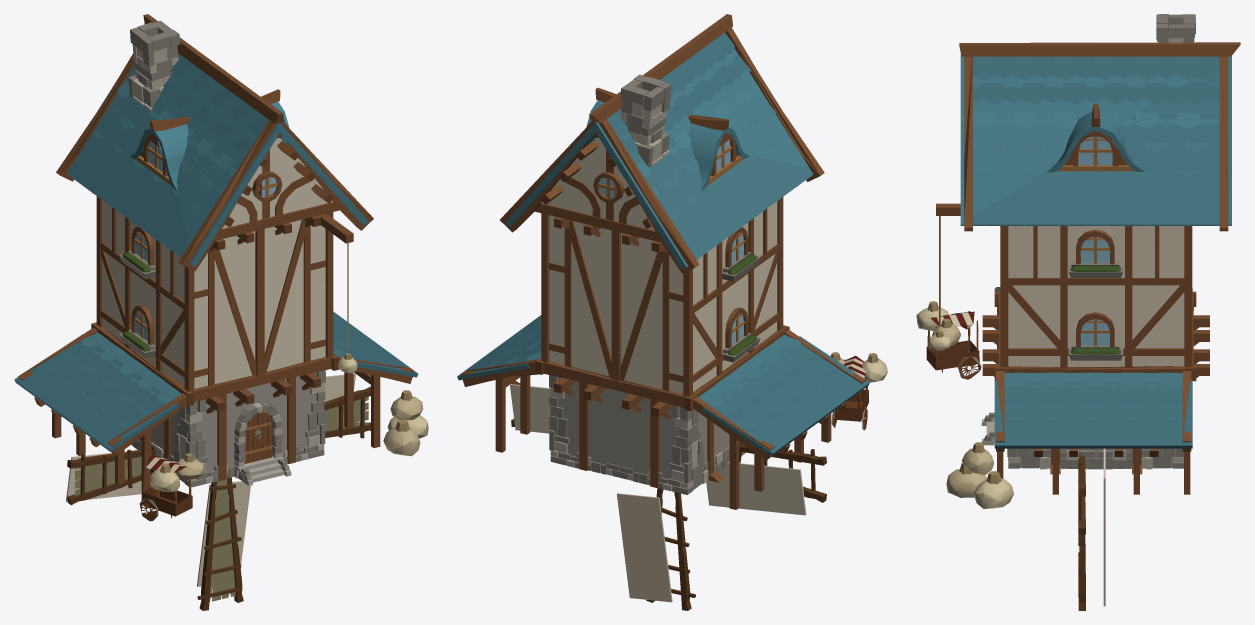
Rendered from mill.glb.
3 renders of one model, left to right at view 1: azimuth 30°, elevation 25°; view 2: azimuth 150°, elevation 25°; view 3: azimuth 270°, elevation 25°, orthographic. The views are drawn at different scales.
Parts seen in each view (by area): view 1: building-mill, building-mill-far, building-mill-sails; view 2: building-mill, building-mill-far, building-mill-sails; view 3: building-mill, building-mill-far, building-mill-sails.
Part boxes in pixels (<box>): building-mill: <box>14,14,428,521</box>; building-mill-far: <box>19,26,408,516</box>; building-mill-sails: <box>66,373,370,610</box>; building-mill: <box>457,14,887,509</box>; building-mill-far: <box>466,30,867,509</box>; building-mill-sails: <box>510,381,826,610</box>; building-mill: <box>916,14,1240,508</box>; building-mill-far: <box>924,17,1239,494</box>; building-mill-sails: <box>1078,448,1105,610</box>.
Size of the model in its own units: 4.9 by 8.12 by 4.18.
